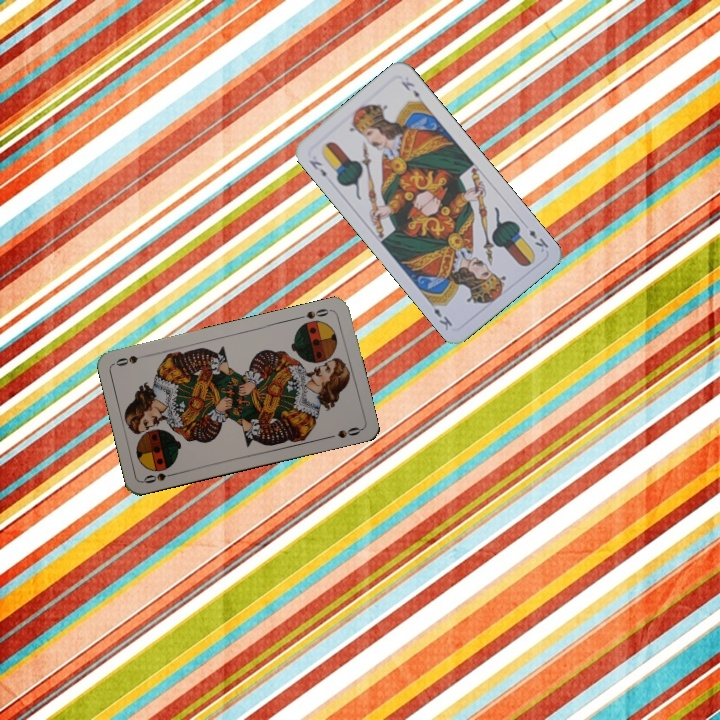EK: (525, 226, 551, 255), (305, 156, 329, 180)
SO: (139, 468, 180, 486), (294, 304, 335, 322)
